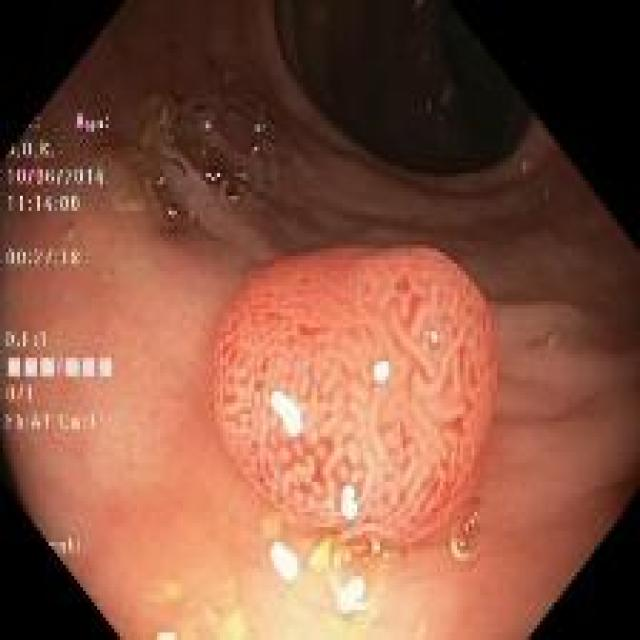Polyps: (214, 247, 496, 544)
